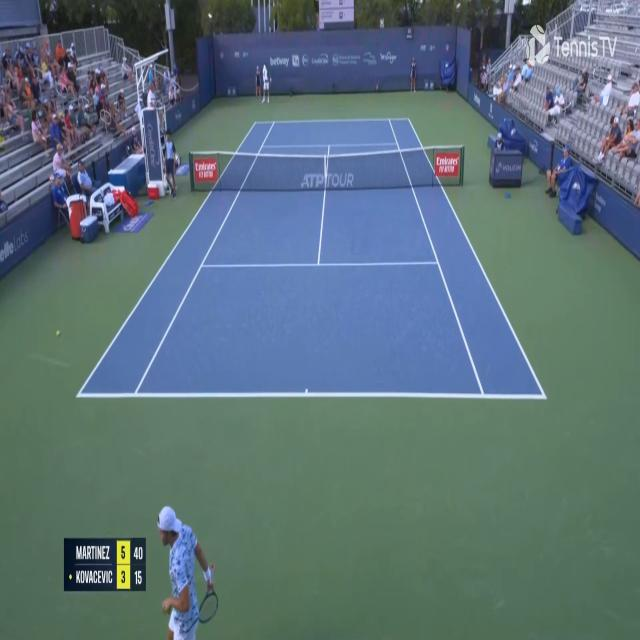tennis-player: (156, 498, 221, 640)
